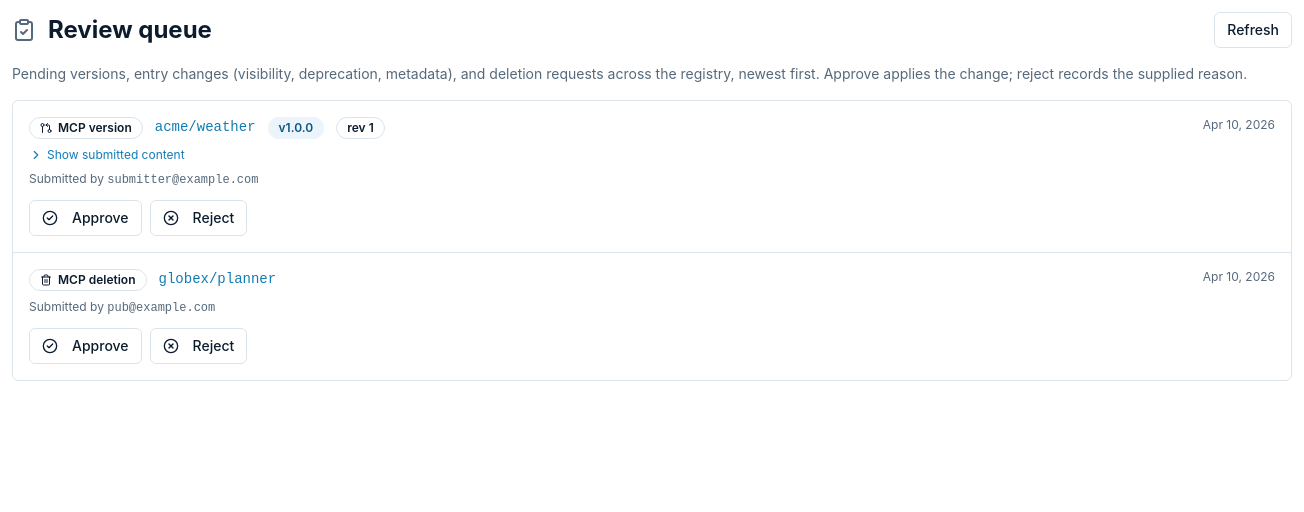
Test: AdminReviewQueue › lazily loads and shows a version item's submitted content on expand
The width and height of the screenshot is (1304, 512).
Click the button "Show submitted content": x=107, y=155 [29, 147, 185, 163]
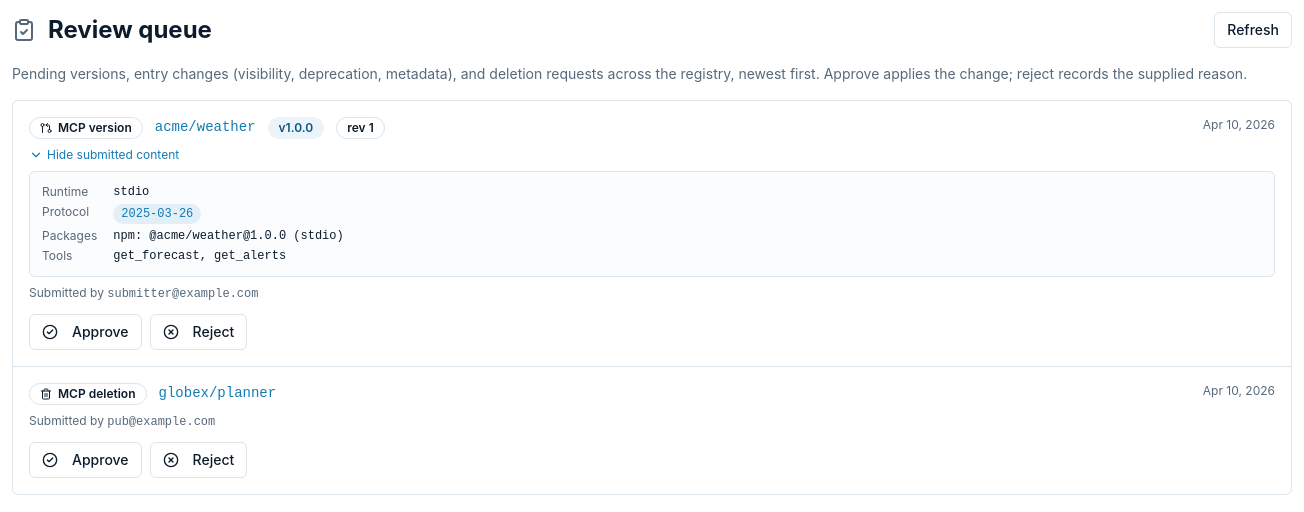
Result: the text "get_forecast, get_alerts" is shown at [113, 249, 286, 263]
Result: the text "npm: @acme/weather@1.0.0 (stdio)" is shown at [113, 229, 344, 243]
